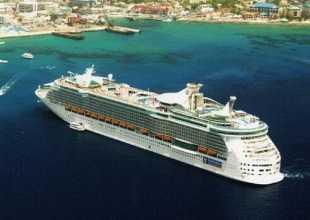youlun: (34, 61, 287, 184)
